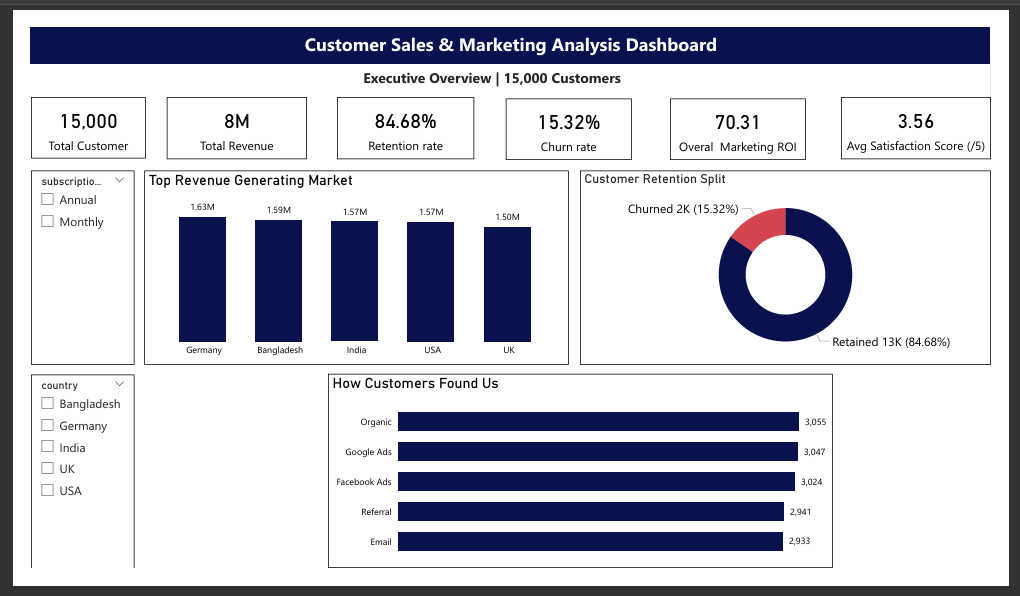

The page's visual inventory and layout, read from the dashboard file:
{"tool":"powerbi","page":{"name":"Executive Overview","canvas":[1280,720],"ordinal":0},"visuals":[{"type":"textbox","box":[0,0,1280,48.7],"z":0},{"type":"textbox","box":[438.4,48.7,413.2,43.7],"z":1000},{"type":"card","fields":{"Values":["Table.Total Customer"]},"box":[0,91.6,153.2,82.8],"z":2000},{"type":"card","fields":{"Values":["Table.Total Revenue"]},"box":[181.4,92.4,186.5,82.3],"z":3000},{"type":"card","fields":{"Values":["Table.Churn rate"]},"box":[408.2,92.4,183.1,82.3],"z":4000},{"type":"card","fields":{"Values":["Table.Avg Satisfaction Score"]},"box":[1080.1,92.4,199.9,82.3],"z":5000},{"type":"card","fields":{"Values":["Table.Overal  Marketing ROI"]},"box":[851.7,94.1,181.4,82.3],"z":6000},{"type":"clusteredColumnChart","title":"Top Revenue Generating Market","fields":{"Category":["Sales - Marketing customer data.country"],"Y":["Table.Total Revenue"]},"box":[151.2,189.8,566.1,258.7],"z":7000},{"type":"donutChart","title":"Customer Retention Split","fields":{"Category":["Sales - Marketing customer data.Churn Label"],"Y":["Table.Total Customer"]},"box":[732.4,189.8,547.6,258.7],"z":8000},{"type":"clusteredBarChart","title":"How Customers Found Us","fields":{"Category":["Sales - Marketing customer data.acquisition_channel"],"Y":["Table.Total Customer"]},"box":[396.1,461.3,672.6,258.8],"z":9000},{"type":"slicer","fields":{"Values":["Sales - Marketing customer data.subscription_type"]},"box":[0,189.8,137.7,258.7],"z":10000},{"type":"slicer","fields":{"Values":["Sales - Marketing customer data.country"]},"box":[0,461.9,137.7,258.7],"z":11000},{"type":"card","fields":{"Values":["Table.Churn rate"]},"box":[633.3,94.1,168,82.3],"z":12000}]}

Visuals, with their boxes on the page's 1280x720 design canvas (x1, y1, x2, y2). These are canvas units, not pixel positions in the 1020x596 screenshot, which may show the page scaled, cropped or inside an application window:
textbox: [0,0,1280,49]
textbox: [438,49,852,92]
card - Table.Total Customer: [0,92,153,174]
card - Table.Total Revenue: [181,92,368,175]
card - Table.Churn rate: [408,92,591,175]
card - Table.Avg Satisfaction Score: [1080,92,1280,175]
card - Table.Overal  Marketing ROI: [852,94,1033,176]
"Top Revenue Generating Market" clusteredColumnChart: [151,190,717,448]
"Customer Retention Split" donutChart: [732,190,1280,448]
"How Customers Found Us" clusteredBarChart: [396,461,1069,720]
slicer - Sales - Marketing customer data.subscription_type: [0,190,138,448]
slicer - Sales - Marketing customer data.country: [0,462,138,721]
card - Table.Churn rate: [633,94,801,176]
